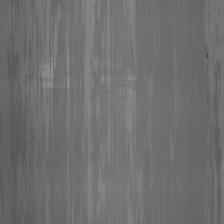inclusion: (10, 1, 102, 216), (109, 8, 162, 188), (210, 5, 223, 224), (205, 39, 211, 104)
